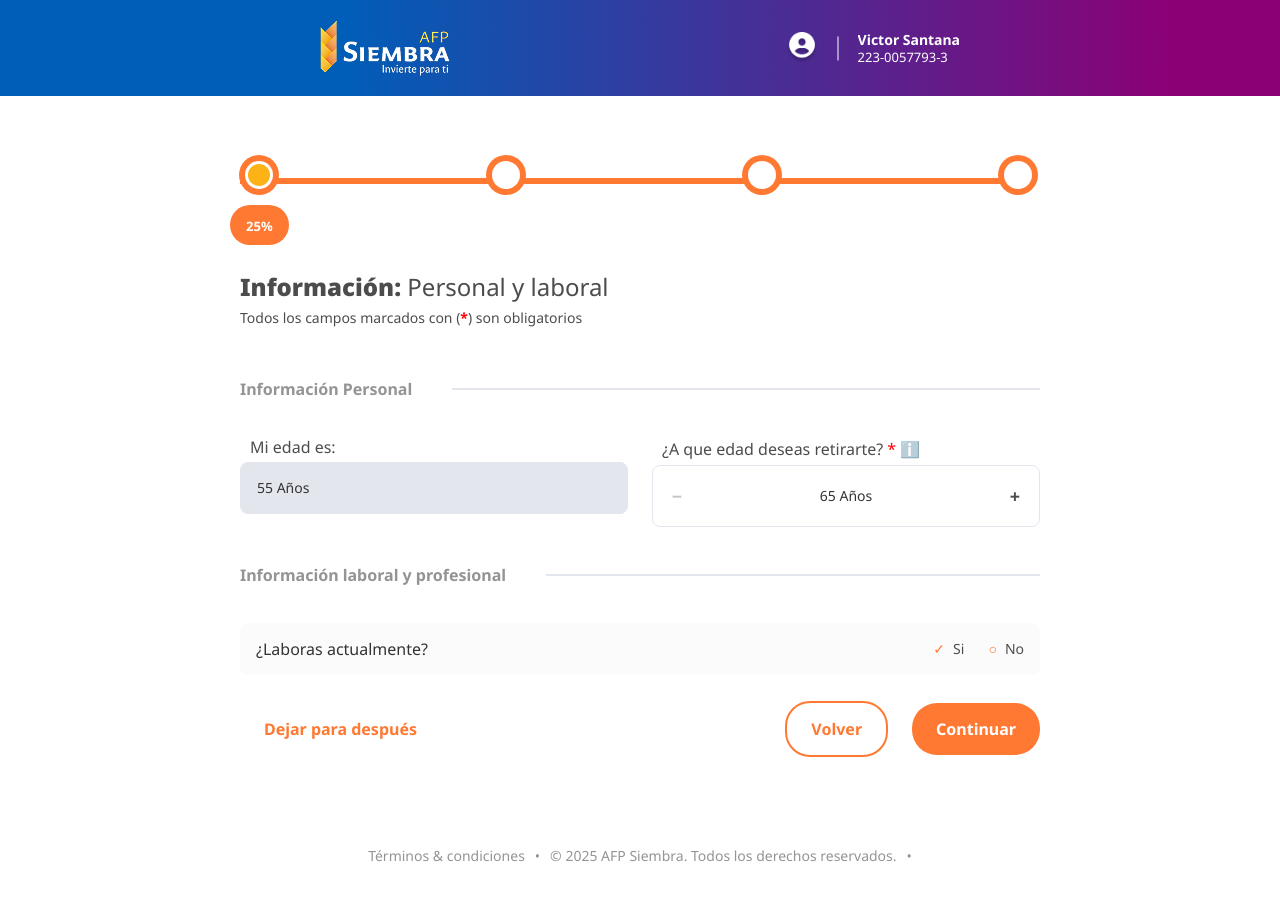
Test: Step1 Component › Retirement Age Controls › decrements retirement age with - button
The width and height of the screenshot is (1280, 900).
Click the button "−".
click(677, 496)  # box [669,482,685,510]
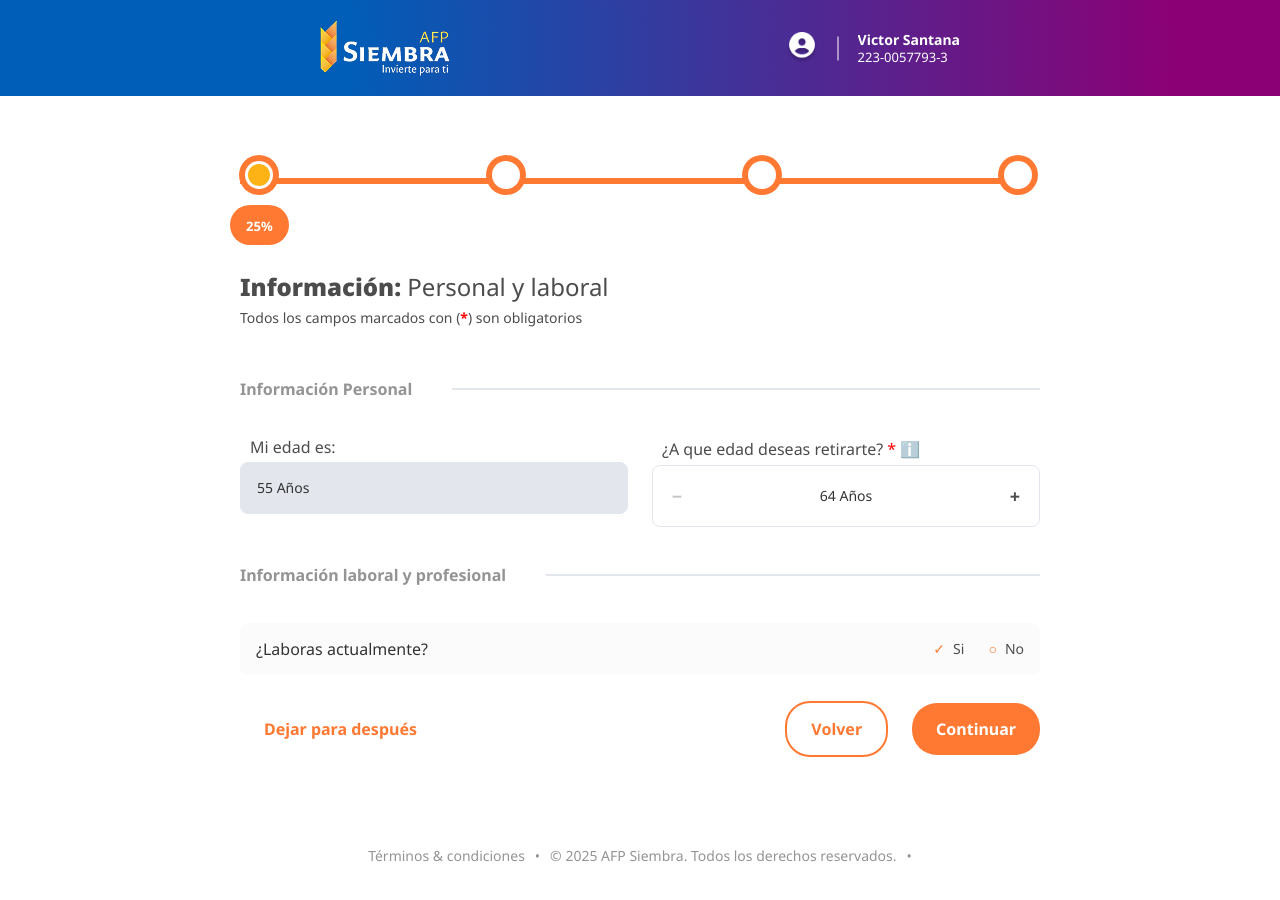
Check: the text "64 Años" is shown, box [820,486,872,505]
